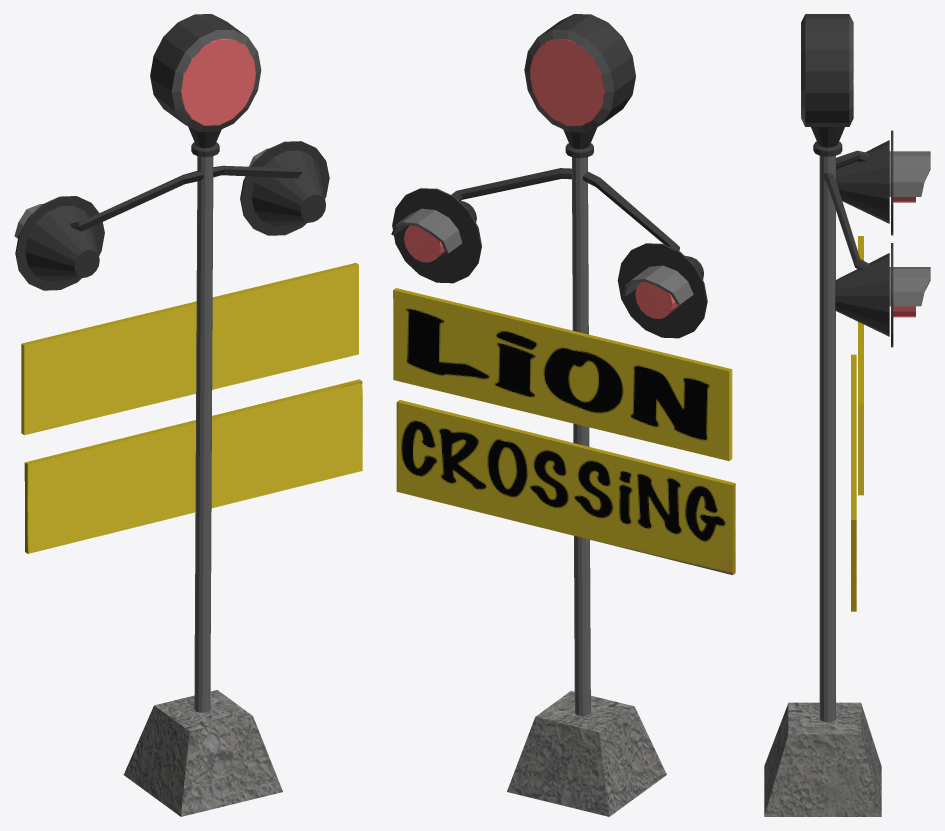
Rendered from sign_light.fbx.
The picture shows the model from 3 angles, left to right: view 1: azimuth 30°, elevation 25°; view 2: azimuth 150°, elevation 25°; view 3: azimuth 270°, elevation 25°; orthographic projection. The views are drawn at different scales.
Parts seen in each view (by area): view 1: polySurface19; view 2: polySurface19; view 3: polySurface19.
Boxes of the visible parts, x1=… form: polySurface19: x1=14, y1=14, x2=362, y2=816; polySurface19: x1=391, y1=14, x2=735, y2=816; polySurface19: x1=764, y1=14, x2=930, y2=816.
Bounding box in the file's own units: 19.26 × 41.68 × 8.11.
1 material, 1 textured.
